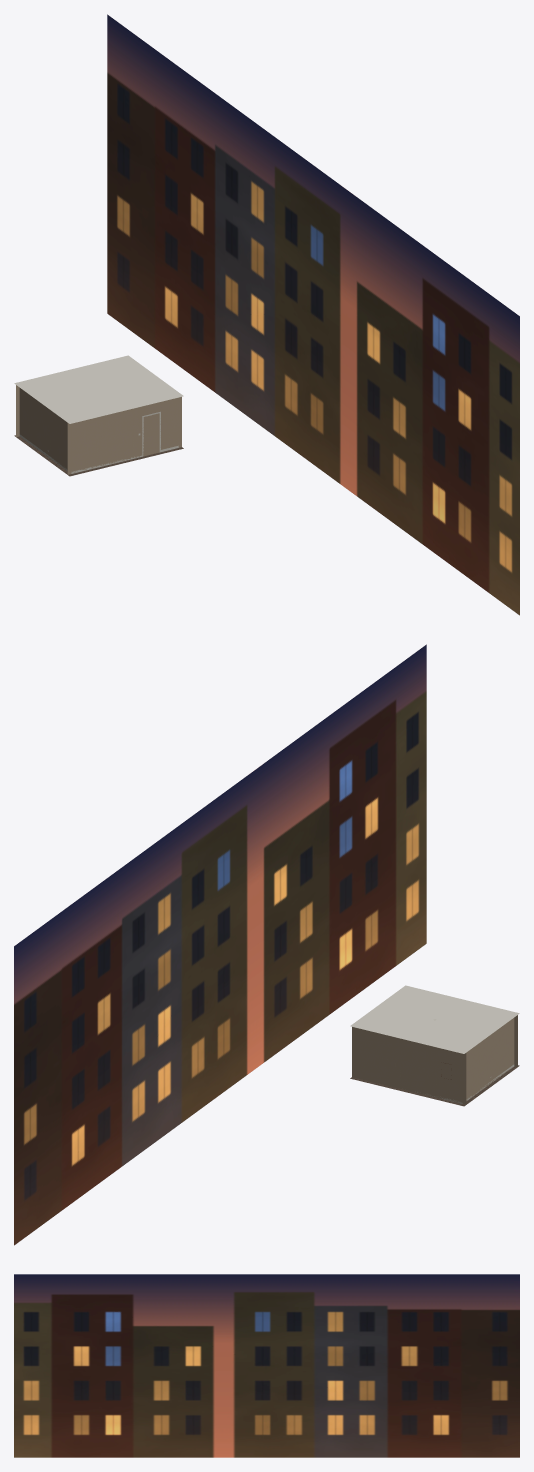
Rendered from apartment.glb.
3 views of the same model, one above another, from view 1: azimuth 30°, elevation 25°; view 2: azimuth 150°, elevation 25°; view 3: azimuth 270°, elevation 25° (orthographic). The views are drawn at different scales.
Visible parts, largest first — view 1: Backdrop_Street, Wall_Plaster, Ceiling_Paint; view 2: Backdrop_Street, Wall_Plaster, Ceiling_Paint; view 3: Backdrop_Street.
Part boxes in pixels (x1,y1,x2,y2): Backdrop_Street: (107, 14, 519, 615); Wall_Plaster: (16, 385, 181, 474); Ceiling_Paint: (14, 355, 183, 423); Backdrop_Street: (14, 644, 426, 1245); Wall_Plaster: (352, 1015, 517, 1104); Ceiling_Paint: (350, 985, 519, 1053); Backdrop_Street: (14, 1274, 519, 1457).
Bounding box in the file's own units: 15.2 × 16 × 40.
24 materials, 8 textured.
